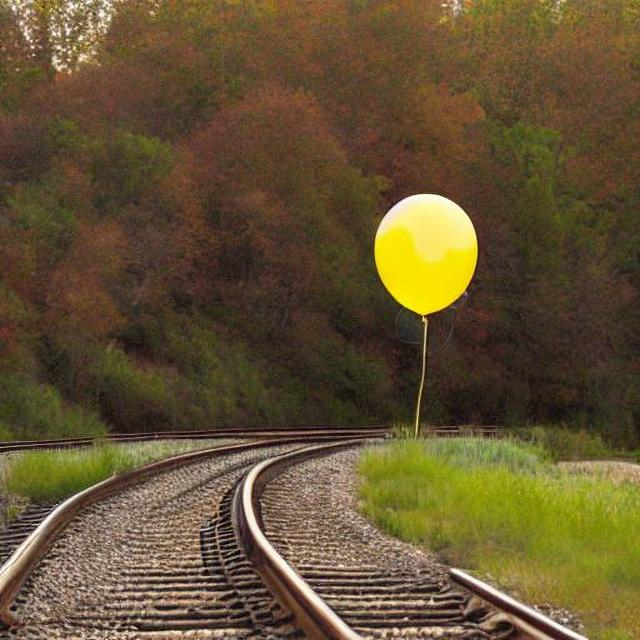balloon: (367, 190, 478, 330)
